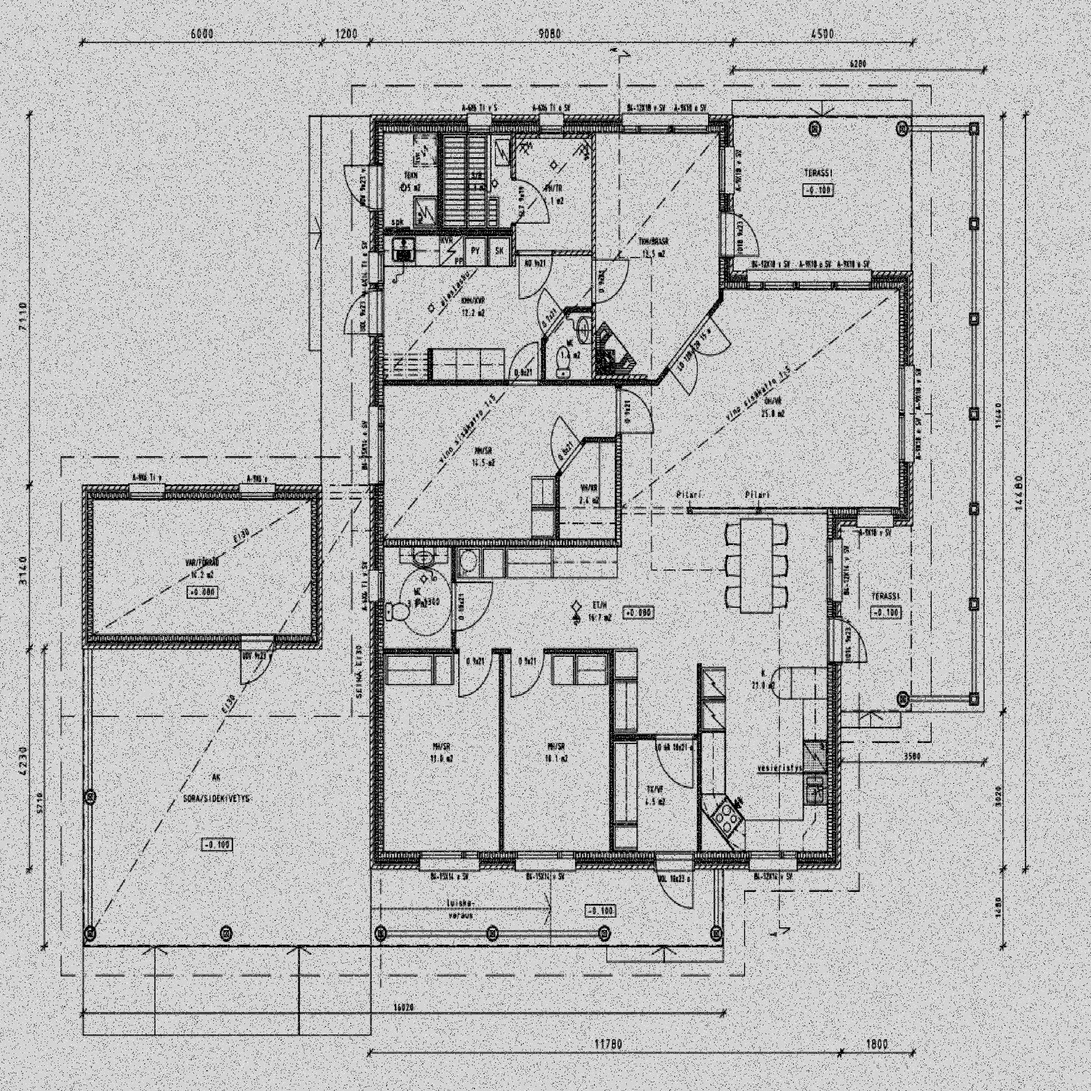wall: (370, 115, 384, 870), (370, 852, 842, 870), (657, 299, 724, 386), (828, 507, 842, 870), (900, 270, 915, 527), (720, 270, 915, 289), (82, 485, 323, 500), (82, 635, 323, 650), (370, 115, 511, 133), (596, 115, 734, 133), (720, 115, 734, 289), (384, 539, 622, 548), (311, 485, 323, 650), (511, 115, 596, 138), (82, 485, 93, 650), (828, 508, 915, 527), (384, 649, 614, 655), (592, 115, 597, 386), (384, 380, 596, 386), (556, 437, 586, 477), (616, 386, 622, 548), (542, 308, 568, 342), (610, 649, 614, 852), (384, 230, 516, 236), (500, 655, 504, 852), (591, 375, 648, 386), (511, 115, 516, 236), (697, 741, 702, 852), (516, 250, 591, 256), (614, 735, 702, 740), (452, 548, 456, 649), (438, 133, 442, 230), (697, 664, 702, 741), (556, 475, 560, 539), (542, 340, 547, 380), (585, 437, 615, 443), (428, 348, 433, 380), (511, 236, 516, 267), (567, 307, 591, 313), (648, 381, 659, 386), (720, 289, 724, 301)
